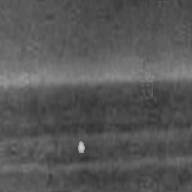Target: (75, 140, 87, 154)
